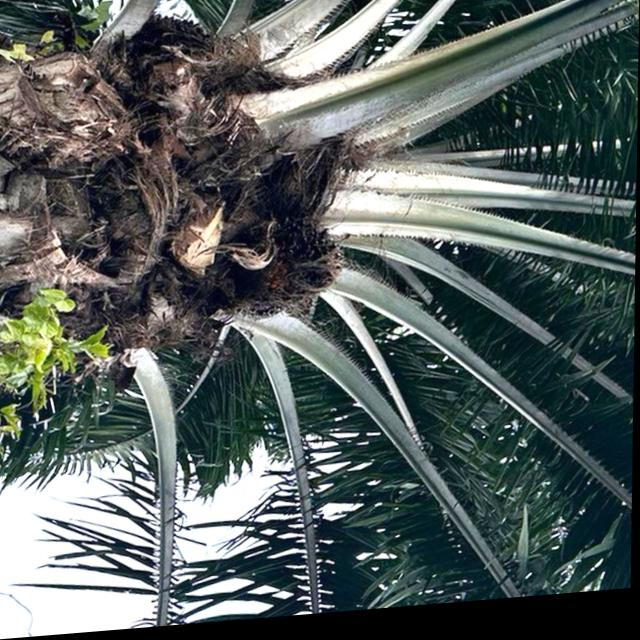almost: (236, 216, 347, 327)
